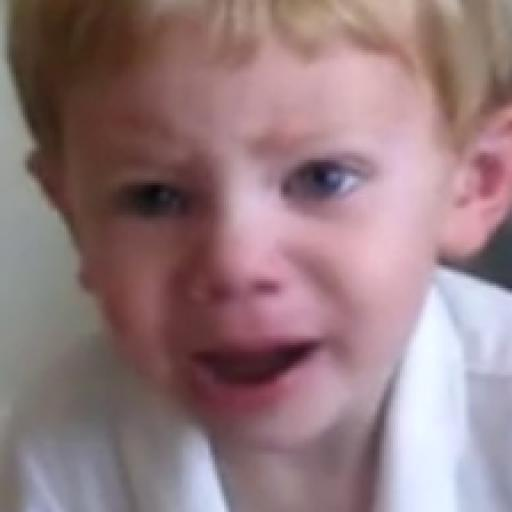Autism: (11, 1, 512, 457)
